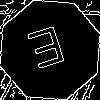E: (25, 25, 71, 79)
